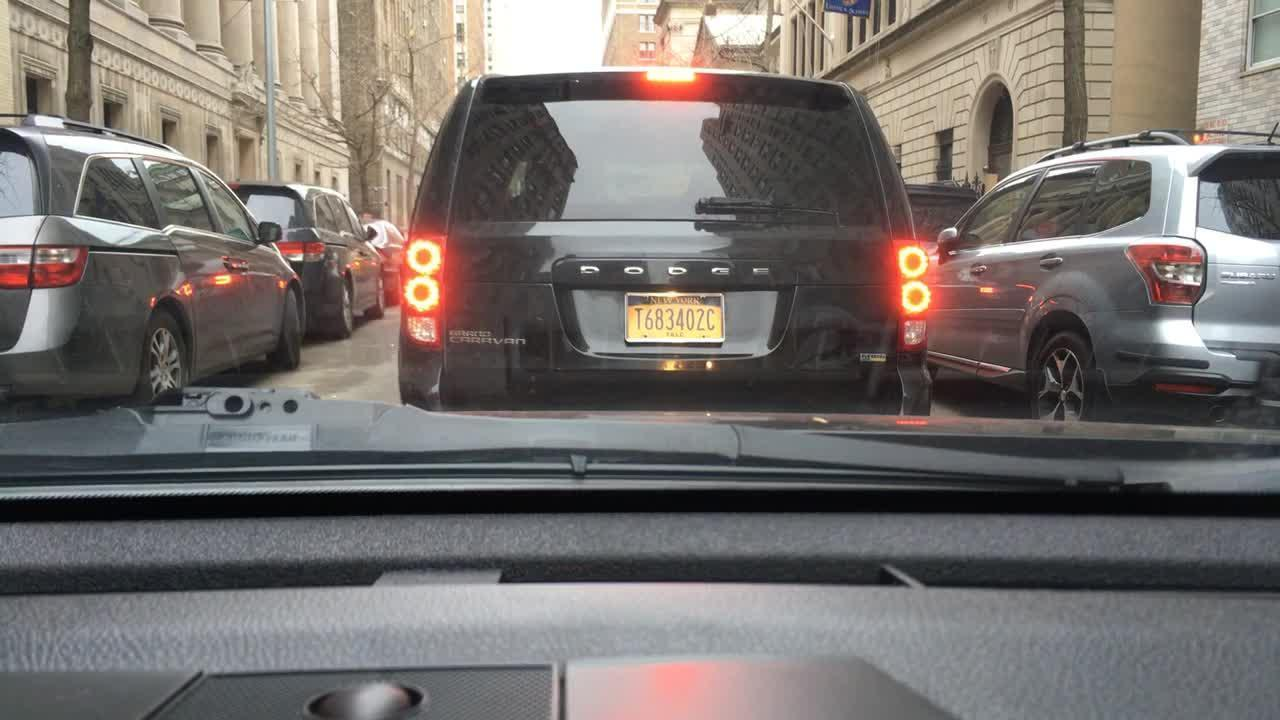dodge: (574, 258, 781, 282)
